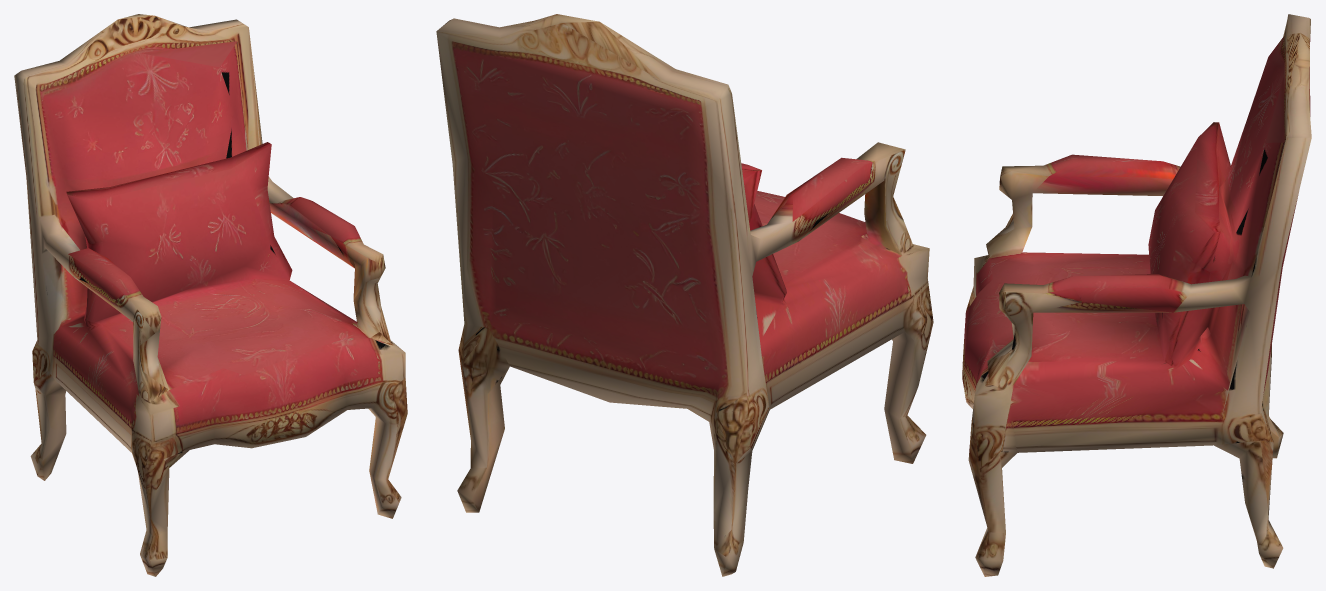
File: DiningChiar.fbx
The picture shows the model from 3 angles, left to right: view 1: azimuth 30°, elevation 25°; view 2: azimuth 150°, elevation 25°; view 3: azimuth 270°, elevation 25°; orthographic projection. The views are drawn at different scales.
Parts seen in each view (by area): view 1: DiningChiar; view 2: DiningChiar; view 3: DiningChiar.
Part boxes in pixels (<box>): DiningChiar: <box>14,14,407,576</box>; DiningChiar: <box>436,14,933,576</box>; DiningChiar: <box>962,14,1311,576</box>.
Bounding box in the file's own units: 61.01 × 93.8 × 62.73.
1 material, 1 textured.
